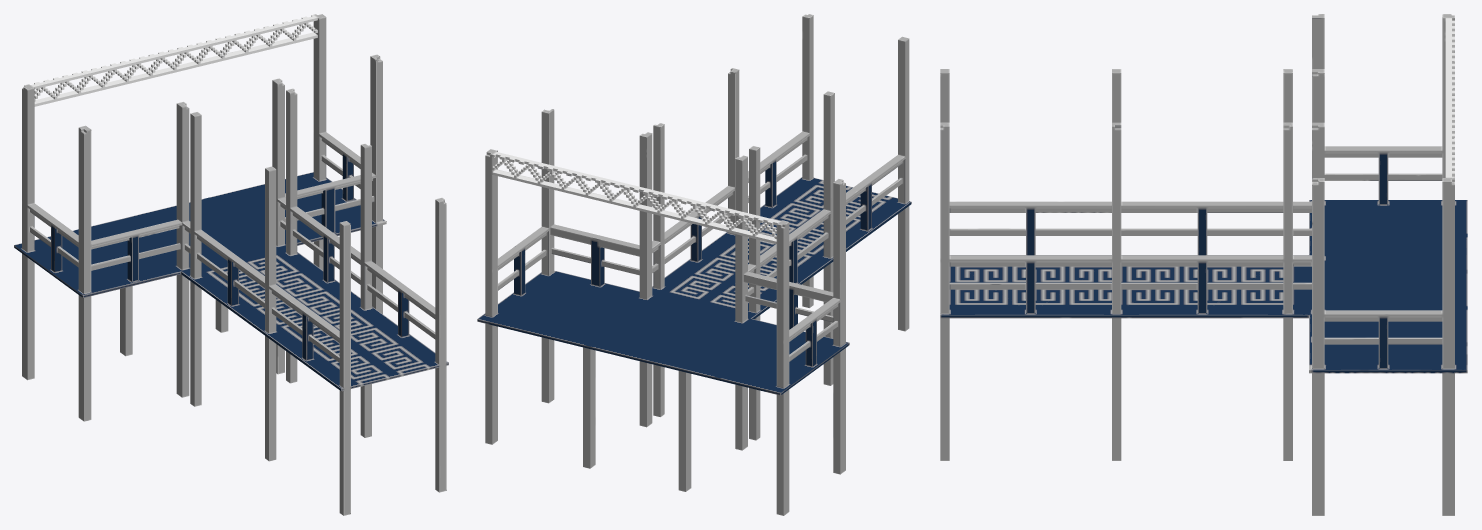
File: Trapiche-4.fbx
The picture shows the model from 3 angles, left to right: view 1: azimuth 30°, elevation 25°; view 2: azimuth 150°, elevation 25°; view 3: azimuth 270°, elevation 25°; orthographic projection. The views are drawn at different scales.
Visible parts, largest first — view 1: Trapiche-4.001; view 2: Trapiche-4.001; view 3: Trapiche-4.001.
Part boxes in pixels (x1=…): Trapiche-4.001: x1=14, y1=14, x2=448, y2=515; Trapiche-4.001: x1=477, y1=14, x2=911, y2=515; Trapiche-4.001: x1=940, y1=14, x2=1467, y2=515.
Size of the model in its own units: 12.7 by 11.6 by 16.6.
Materials: 1 (1 with a texture image).
